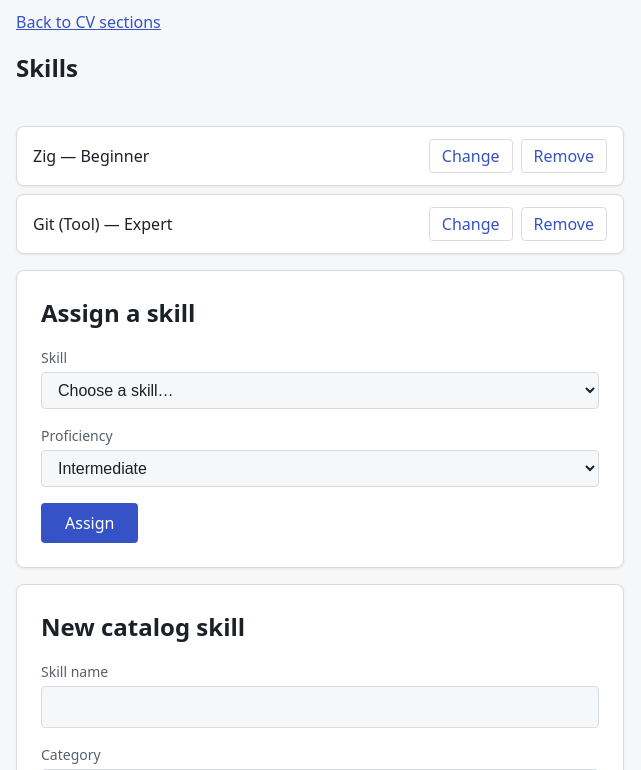
Test: SkillsPage › an unassign answered 404 shows an error and leaves no stale row
Click the button with aria-label "Remove Zig" at (564,156), box [520, 139, 607, 173]
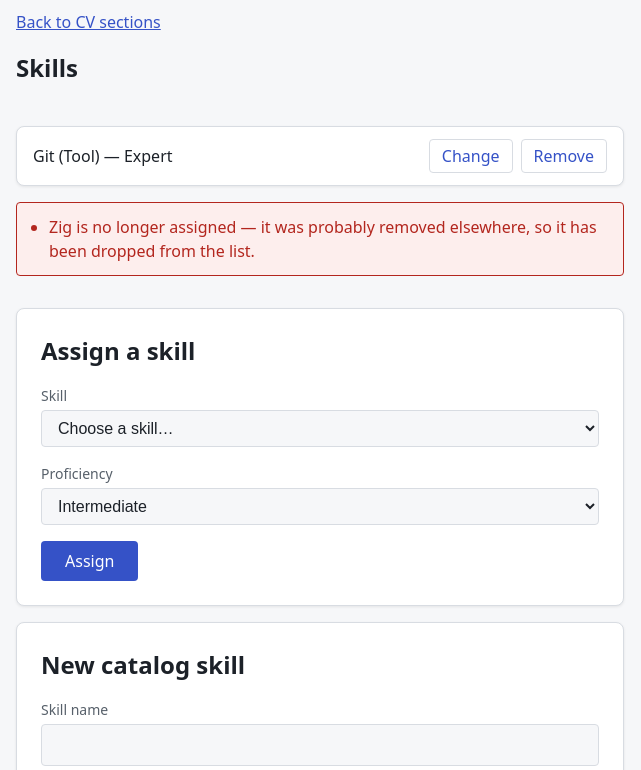
Now the message shows "Zig is no longer assigned", box [49, 216, 597, 262]
